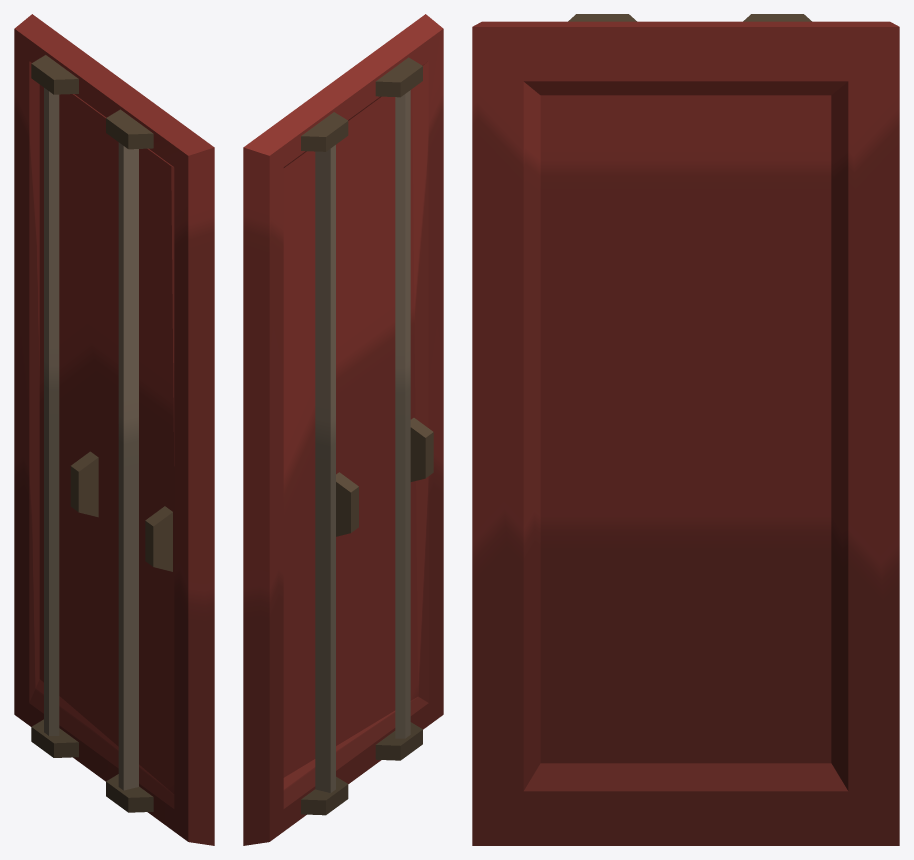
Rendered from SM_Prop_Container_01_Door_RR.obj.
The picture shows the model from 3 angles, left to right: view 1: azimuth 30°, elevation 25°; view 2: azimuth 150°, elevation 25°; view 3: azimuth 270°, elevation 25°; orthographic projection. The views are drawn at different scales.
Visible parts, largest first — view 1: SM_Prop_Container_01_Door_RR_0; view 2: SM_Prop_Container_01_Door_RR_0; view 3: SM_Prop_Container_01_Door_RR_0.
Part boxes in pixels (x1,y1,x2,y2): SM_Prop_Container_01_Door_RR_0: [14, 14, 214, 845]; SM_Prop_Container_01_Door_RR_0: [243, 14, 443, 845]; SM_Prop_Container_01_Door_RR_0: [472, 14, 899, 845].
Size of the model in its own units: 0.1416 by 2.27 by 1.07.
Materials: 1 (1 with a texture image).
